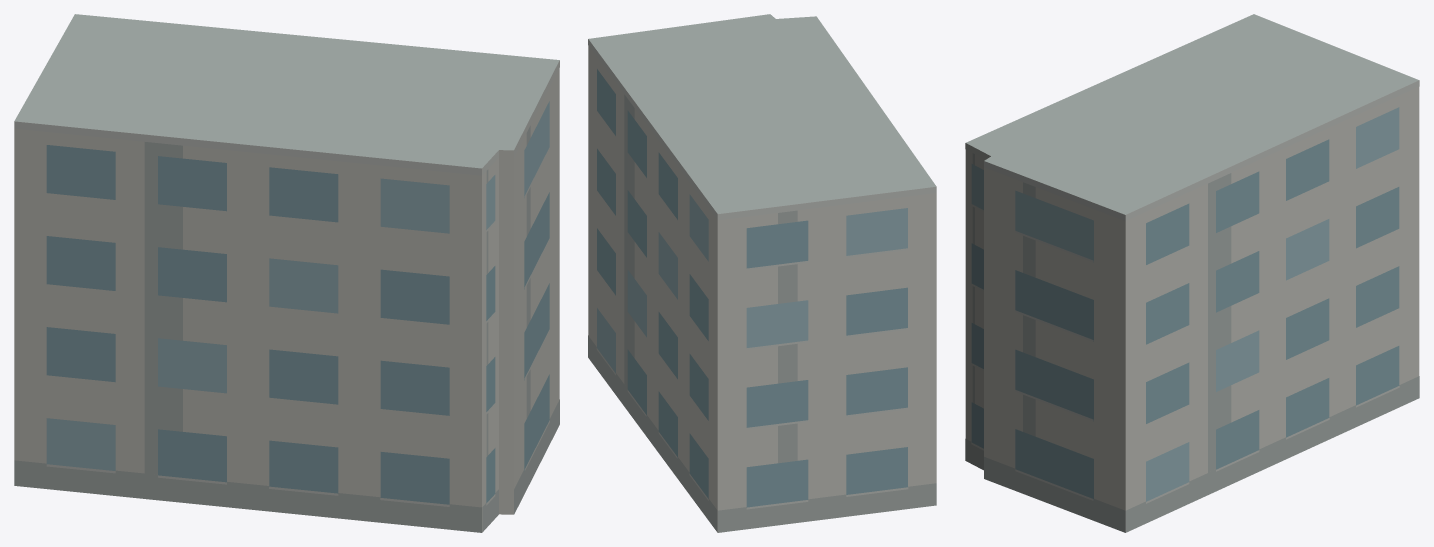
File: survey-upis-32529564.glb
The picture shows the model from 3 angles, left to right: view 1: azimuth 30°, elevation 25°; view 2: azimuth 150°, elevation 25°; view 3: azimuth 270°, elevation 25°; orthographic projection. The views are drawn at different scales.
Parts seen in each view (by area): view 1: survey-upis-32529564.tmp; view 2: survey-upis-32529564.tmp; view 3: survey-upis-32529564.tmp.
Part boxes in pixels (left/top/right/bottom): survey-upis-32529564.tmp: left=14, top=14, right=559, bottom=532; survey-upis-32529564.tmp: left=588, top=14, right=936, bottom=532; survey-upis-32529564.tmp: left=965, top=14, right=1419, bottom=532.
Bounding box in the file's own units: 16.54 × 12.2 × 15.79.
